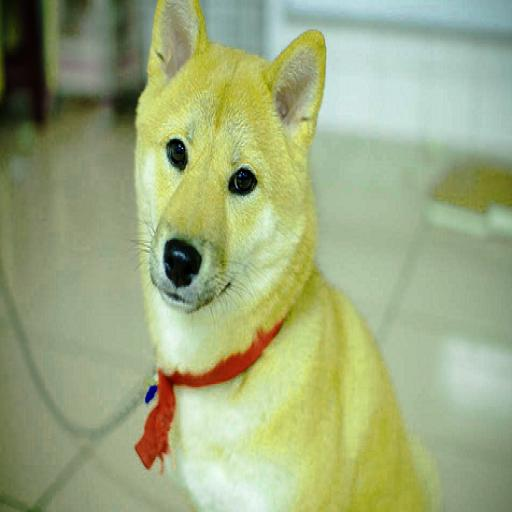dog_face: (128, 16, 309, 313)
